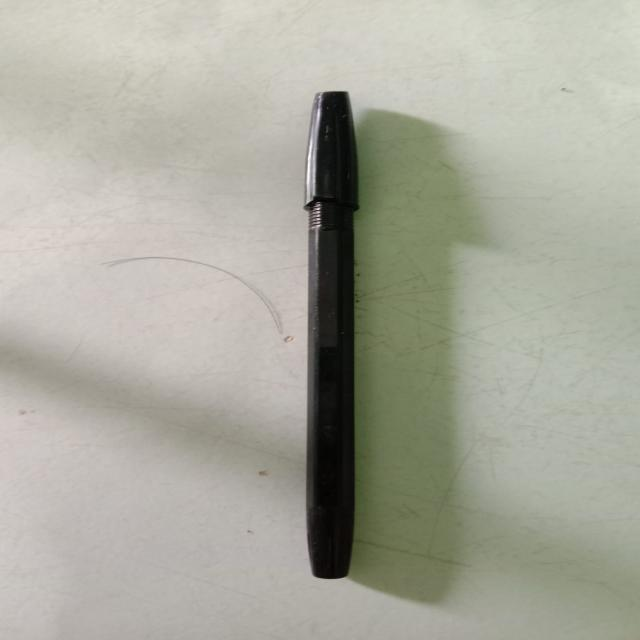pena: (288, 60, 390, 592)
